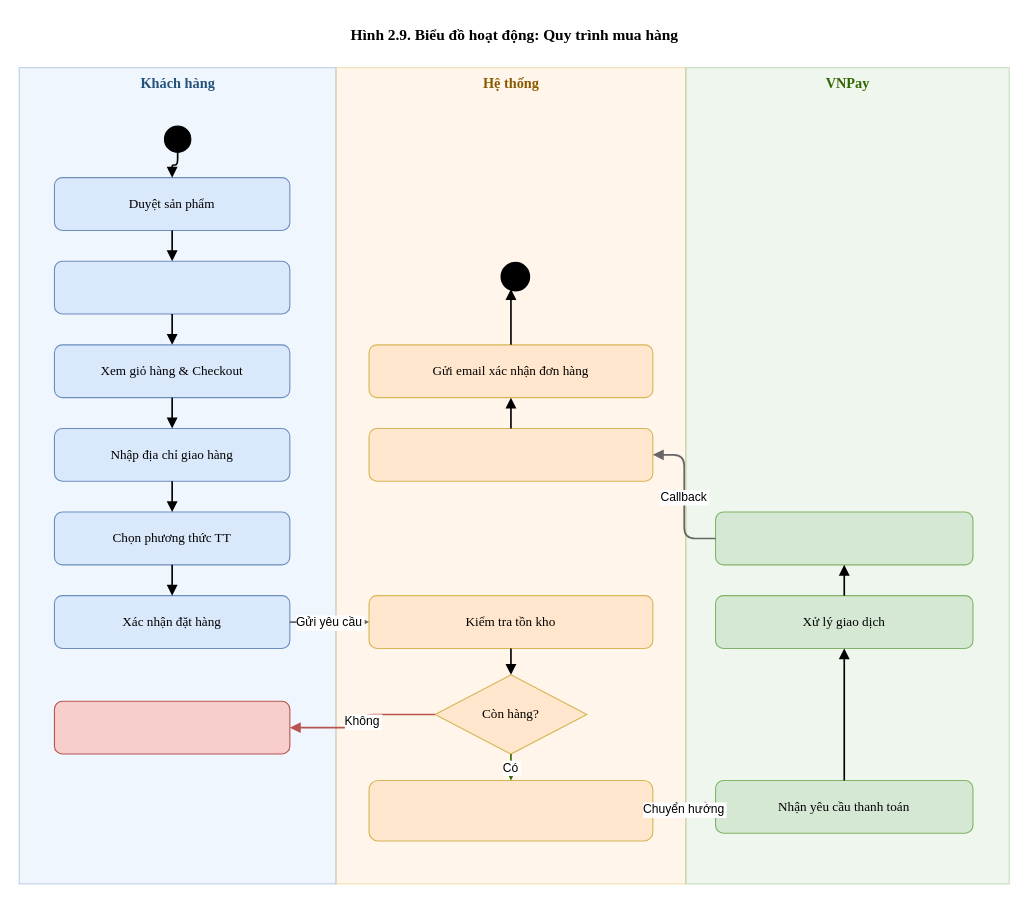
The diagram is 1029 pixels wide and 903 high, and some of its shapes have lost their labels. Each missing label, with the box of its shape:
Gửi callback kết quả: (714, 511, 973, 565)
Thêm vào giỏ hàng: (53, 260, 290, 314)
Thông báo hết hàng: (53, 700, 290, 754)
Tạo đơn hàng (CP + YYYYMMDD + 5 số): (368, 779, 653, 841)
Xác minh & cập nhật trạng thái: (368, 427, 653, 481)
